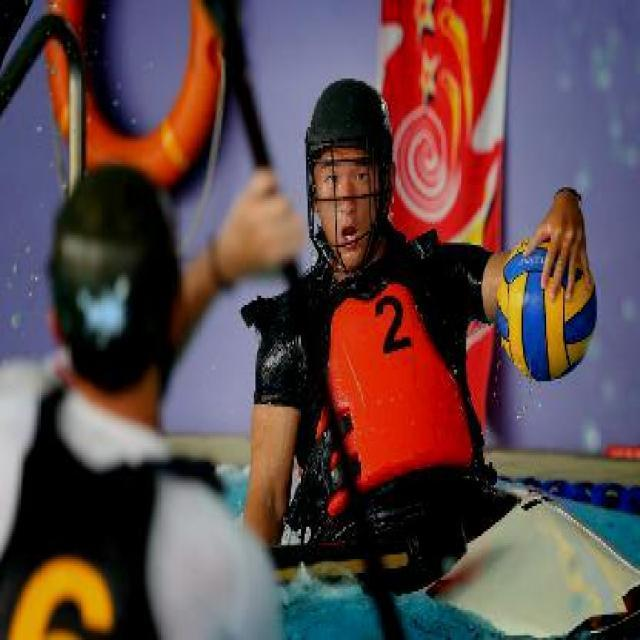volleyball: (498, 238, 598, 378)
